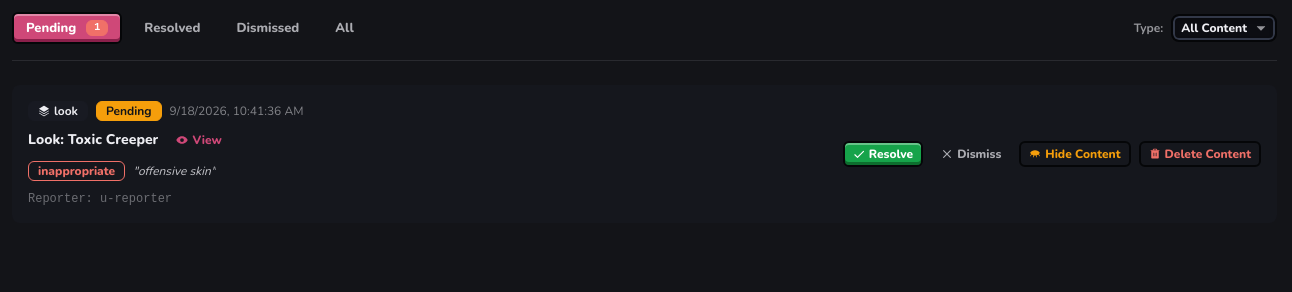
Test: ModerationQueue › shows friendly error feedback when the RPC rejects and keeps the row in place
Click the button "Resolve" at [883, 154], box [843,141,923,167]
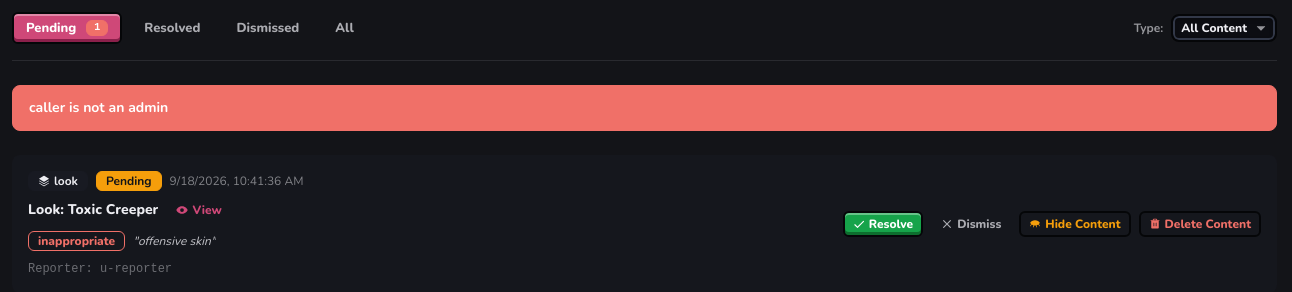
Check: the button "Resolve" is shown, box [843,211,923,237]
Check: the message "caller is not an admin" is shown, box [12,85,1277,131]
